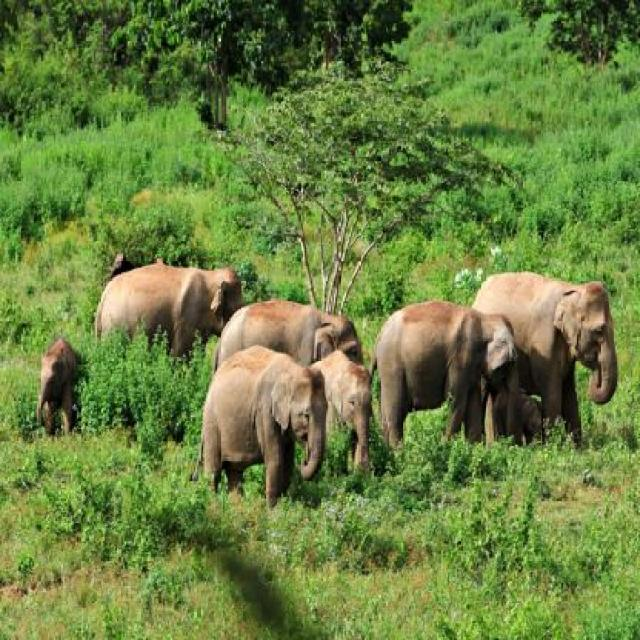elephant: (169, 353, 328, 555), (467, 256, 630, 427), (280, 291, 382, 497), (368, 313, 517, 452), (80, 239, 218, 387), (190, 256, 372, 366), (30, 331, 84, 431)
